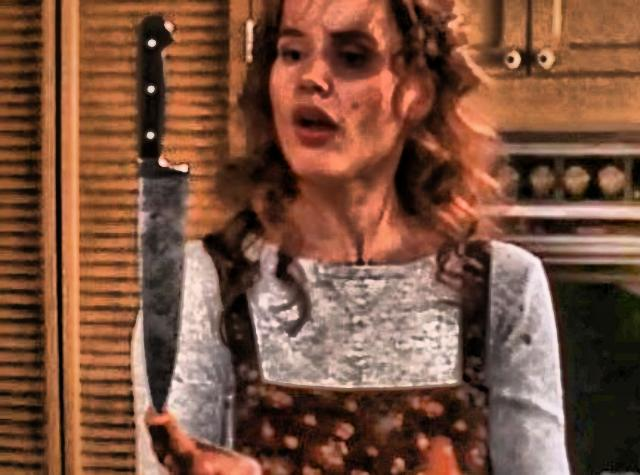knife: (118, 13, 190, 420)
